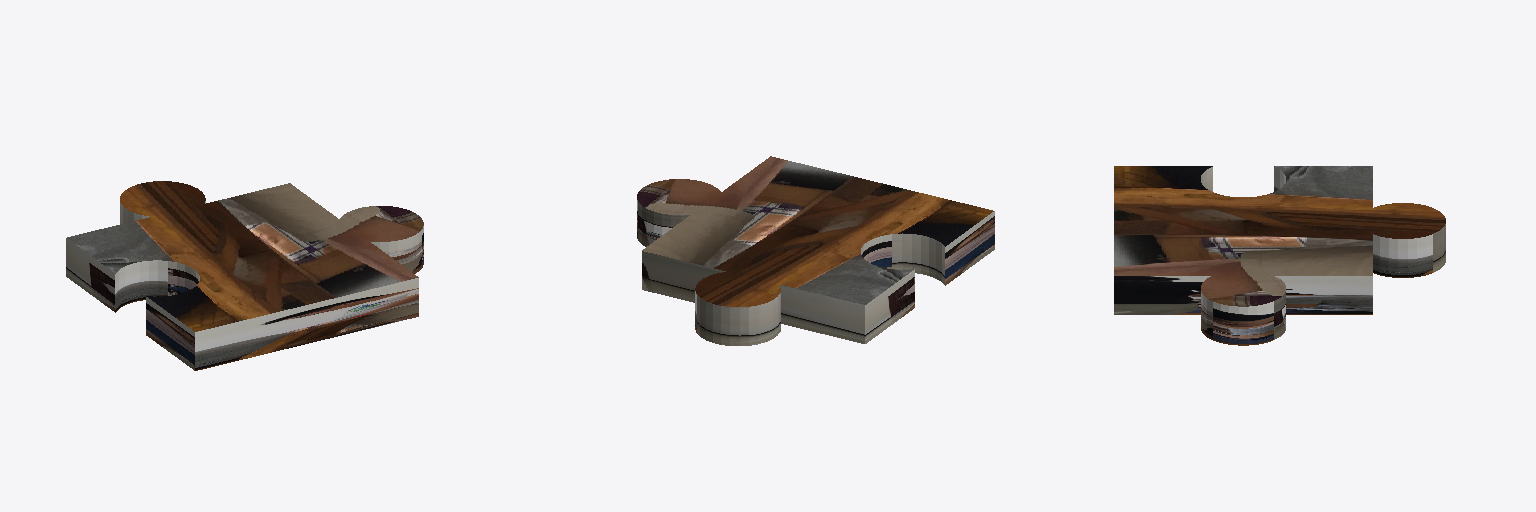
The picture shows the model from 3 angles: view 1: azimuth 30°, elevation 25°; view 2: azimuth 150°, elevation 25°; view 3: azimuth 270°, elevation 25°; orthographic projection.
Visible parts, largest first — view 1: ͼ��010; view 2: ͼ��010; view 3: ͼ��010.
Part boxes in pixels (x1,y1,x2,y2): ͼ��010: (66,181,423,370); ͼ��010: (637,156,994,345); ͼ��010: (1114,166,1445,345).
Size of the model in its own units: 38.5 by 5 by 38.5.
1 materials, 1 textured.